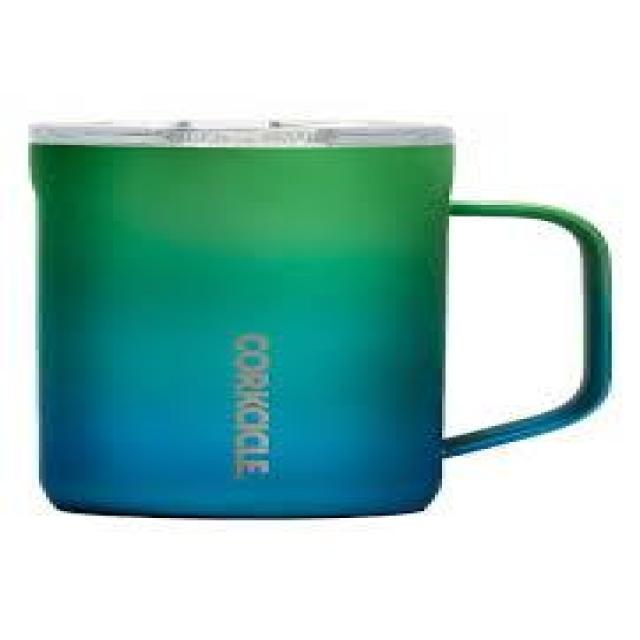bottle: (30, 120, 610, 518)
